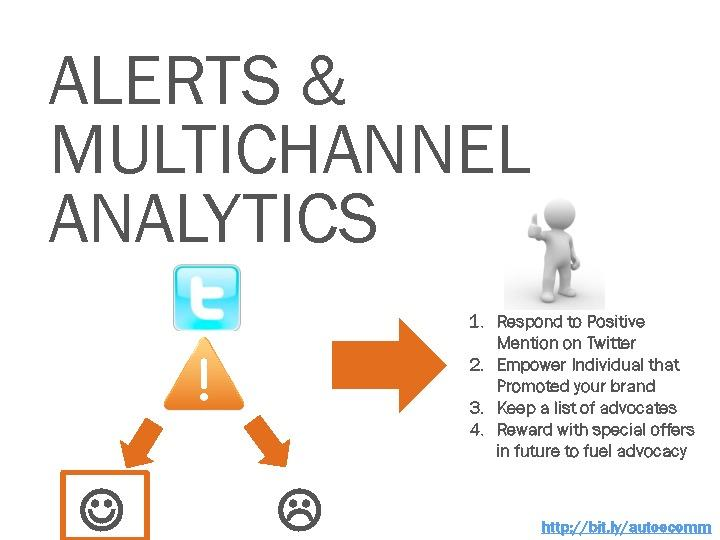paragraph: (462, 298, 720, 471)
title: (38, 37, 540, 259)
